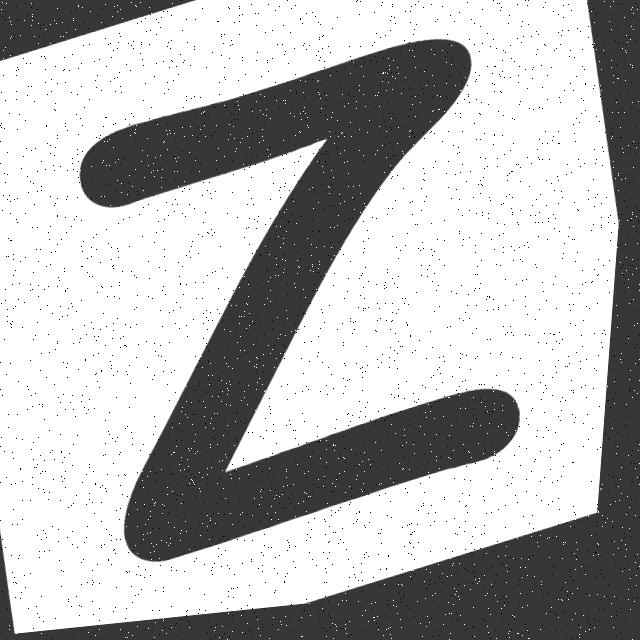Z: (82, 48, 527, 565)
